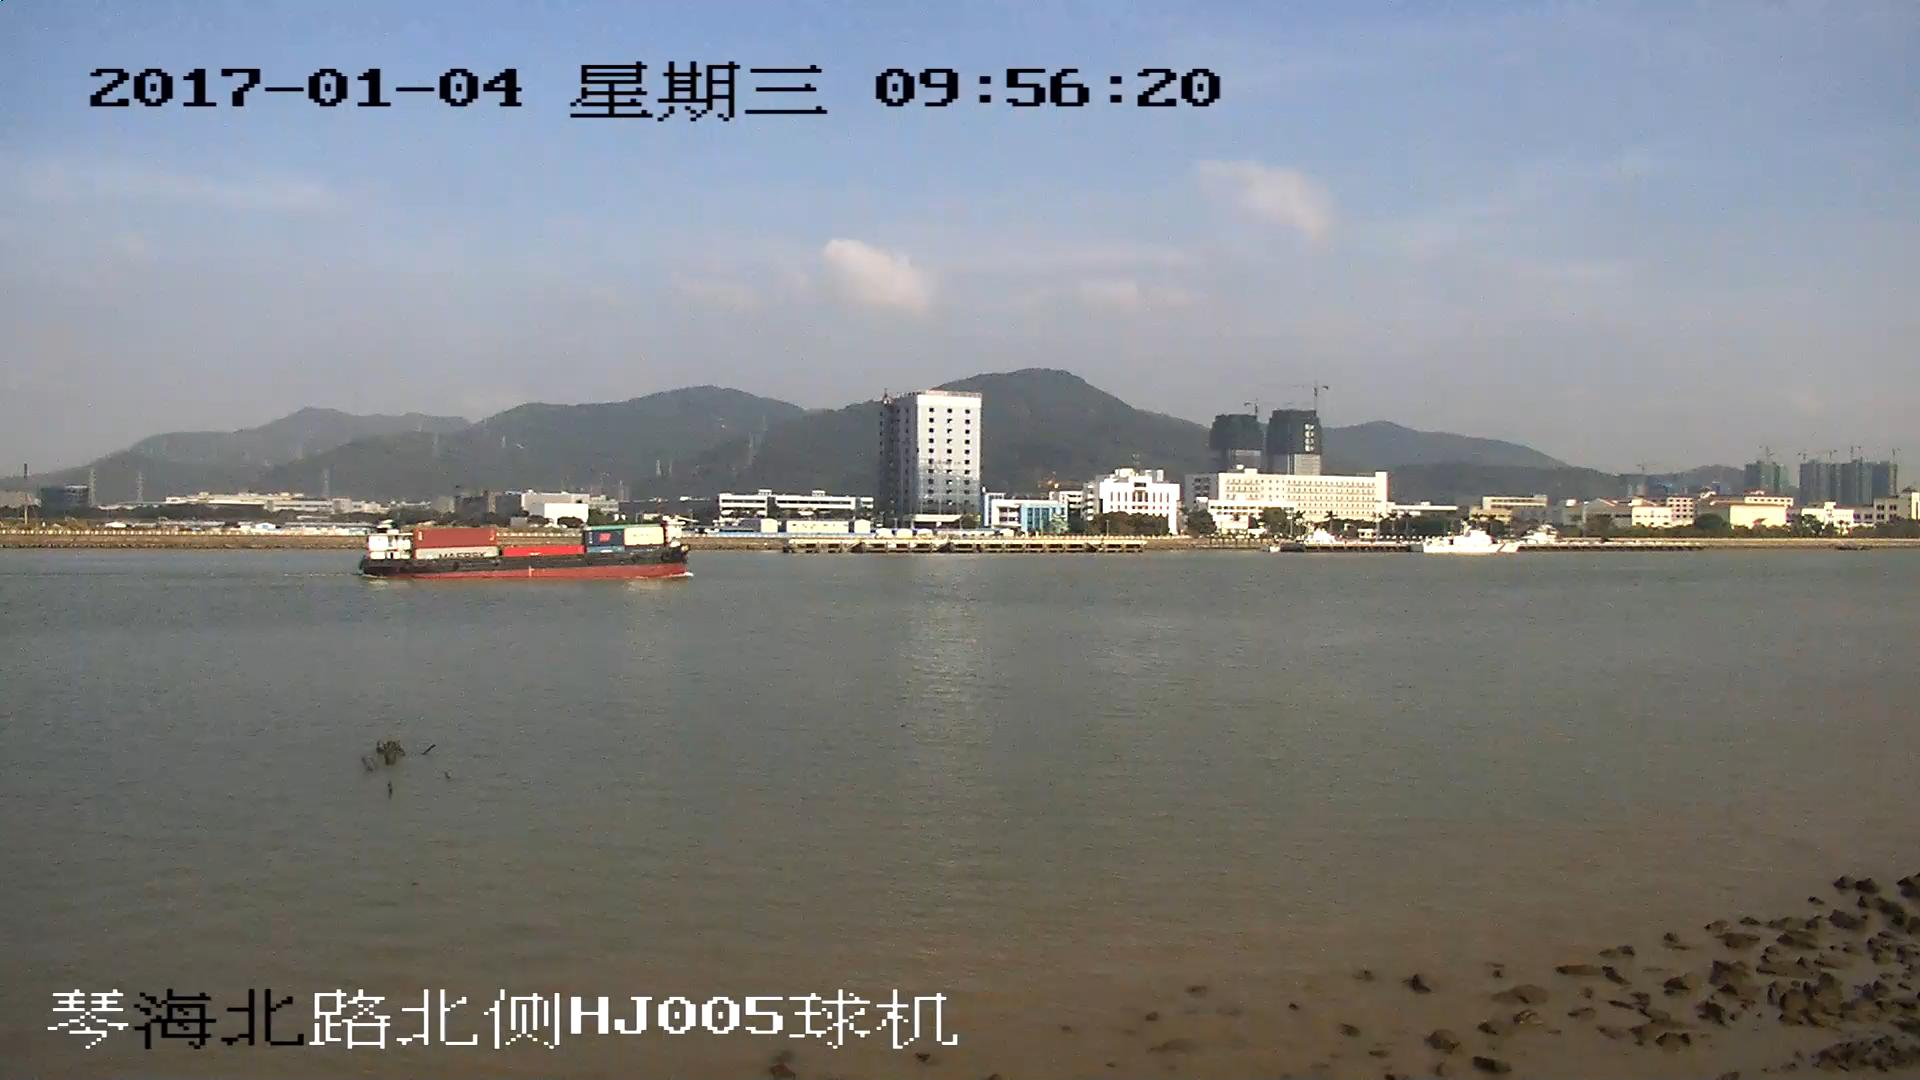container ship: (359, 524, 689, 582)
